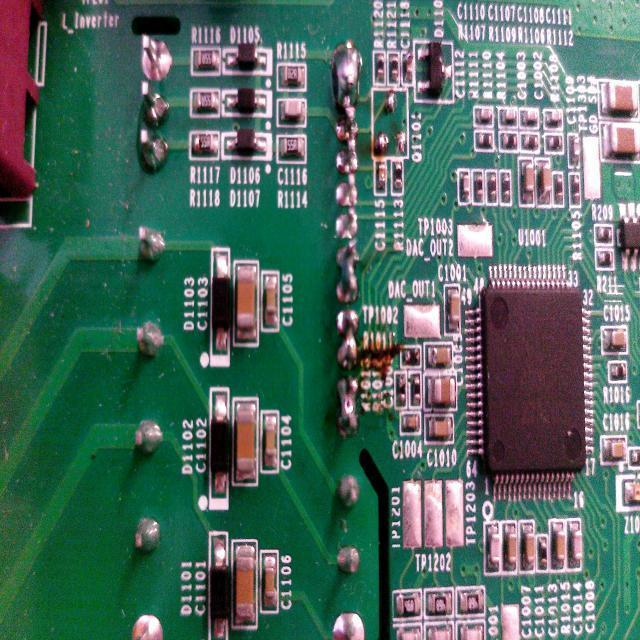Soldering shorted: (325, 120, 363, 180), (332, 240, 366, 304), (332, 38, 362, 110), (334, 374, 366, 440), (333, 307, 362, 373)
